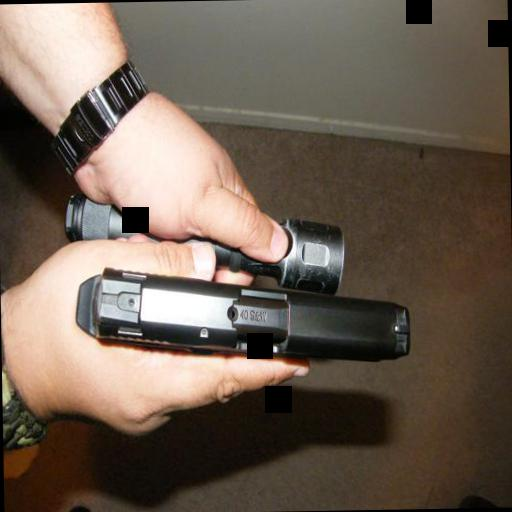Handgun: (73, 260, 410, 372)
